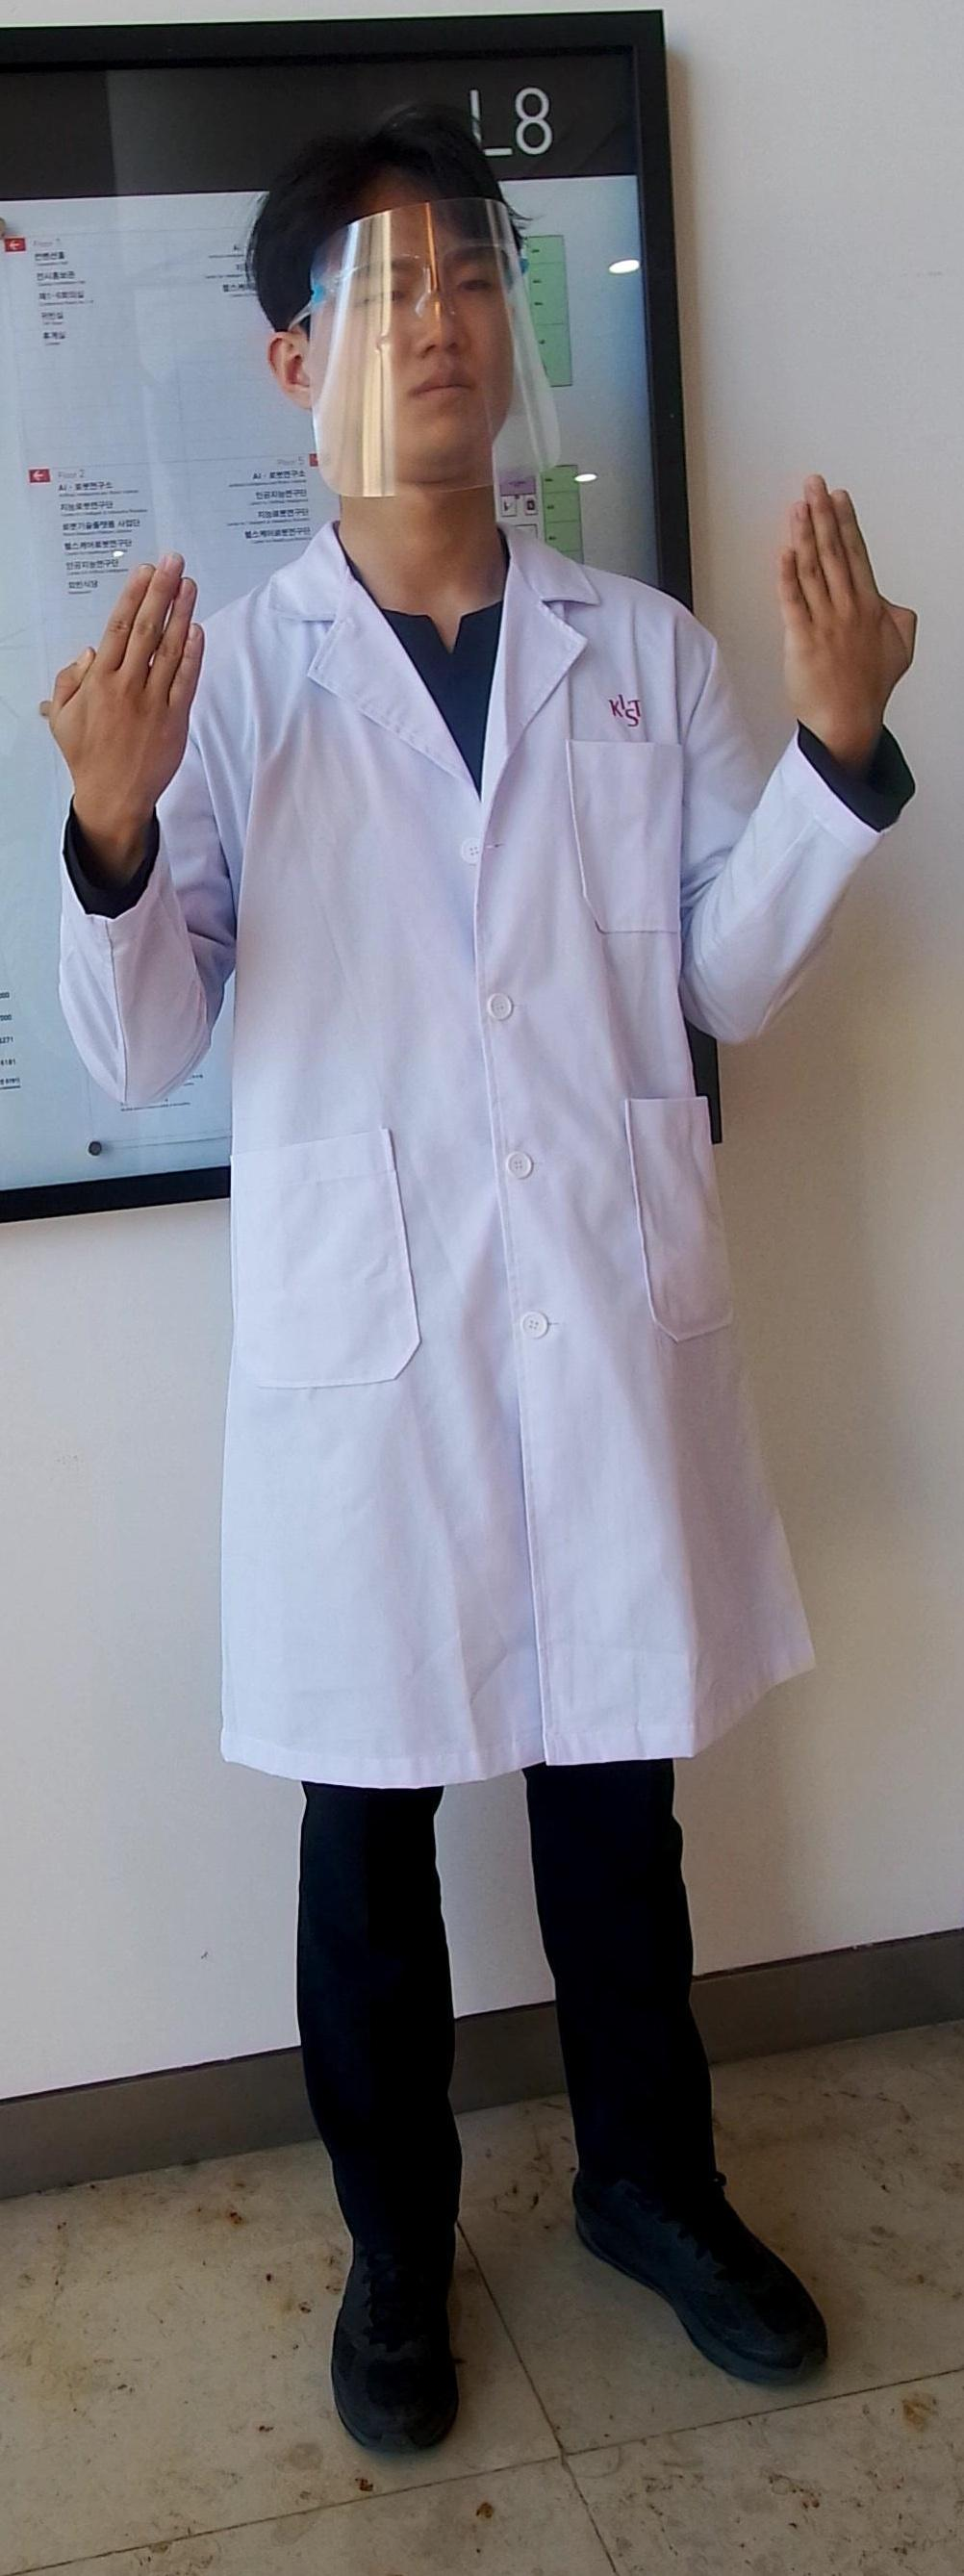lab_coat: (210, 593, 747, 1786)
